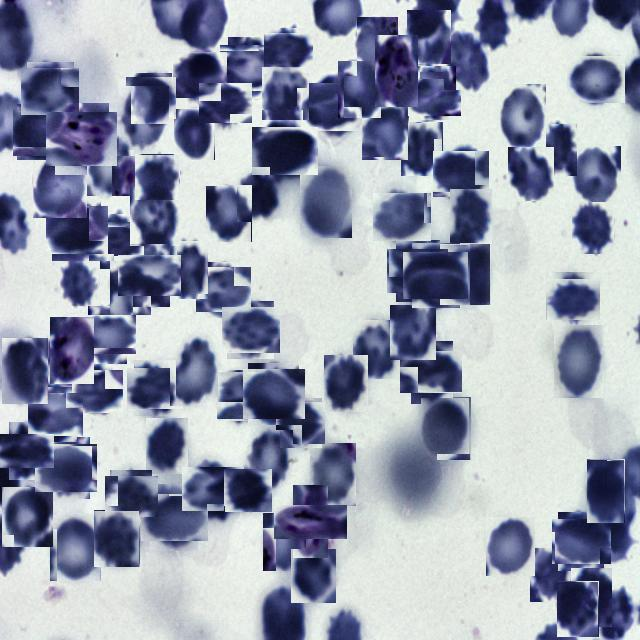red blood cell: (300, 166, 352, 238), (554, 325, 604, 398), (50, 514, 102, 581), (33, 154, 87, 218), (170, 337, 218, 406), (256, 122, 313, 180), (146, 488, 202, 546), (440, 243, 491, 306), (118, 86, 168, 150), (2, 486, 54, 547), (86, 134, 136, 197), (420, 397, 470, 460), (306, 79, 362, 135), (246, 366, 302, 422), (499, 84, 546, 150), (38, 440, 93, 496), (49, 202, 104, 258), (408, 248, 463, 304), (2, 338, 48, 404), (130, 186, 180, 246), (570, 146, 621, 204), (247, 430, 293, 494), (224, 41, 278, 95), (186, 462, 240, 516), (310, 443, 356, 506), (486, 517, 535, 576), (375, 191, 429, 244), (24, 65, 77, 118), (570, 52, 622, 106), (353, 320, 400, 379), (555, 515, 607, 568), (392, 245, 444, 298), (224, 304, 276, 356), (406, 346, 458, 398), (15, 106, 67, 158), (123, 250, 175, 302), (362, 103, 409, 160), (206, 185, 252, 242), (94, 510, 140, 567), (198, 264, 248, 316), (436, 148, 486, 200), (262, 66, 310, 120), (263, 514, 307, 572), (338, 60, 382, 118), (444, 35, 490, 90), (390, 305, 436, 360), (324, 355, 368, 412), (408, 68, 458, 118), (174, 50, 224, 100), (508, 147, 554, 201), (587, 459, 625, 524), (130, 363, 180, 412), (30, 390, 80, 439), (291, 549, 336, 603), (571, 568, 612, 627), (84, 310, 132, 360), (407, 10, 451, 64), (146, 418, 188, 474), (218, 371, 266, 420), (557, 581, 599, 637), (450, 189, 492, 244), (237, 167, 279, 222), (110, 260, 152, 315), (548, 276, 596, 324), (73, 368, 121, 416), (170, 240, 209, 299), (401, 122, 443, 176), (92, 218, 140, 265), (107, 473, 155, 520), (357, 17, 398, 72), (572, 202, 614, 254), (203, 80, 249, 127), (128, 75, 174, 122), (530, 548, 570, 602), (174, 108, 215, 160), (278, 400, 324, 446), (225, 468, 271, 514), (3, 428, 49, 474), (135, 154, 180, 200), (266, 30, 311, 75), (60, 260, 100, 306), (542, 124, 577, 176)
ring: (50, 108, 114, 170), (50, 317, 94, 384)
trophozoite: (375, 35, 418, 107), (284, 494, 338, 548)
